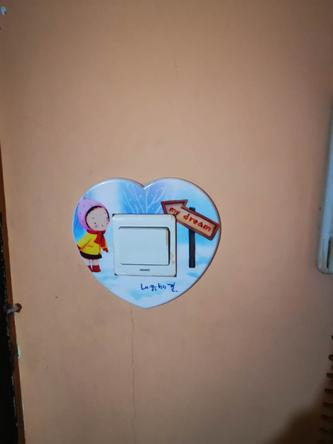switch: (114, 221, 179, 263)
